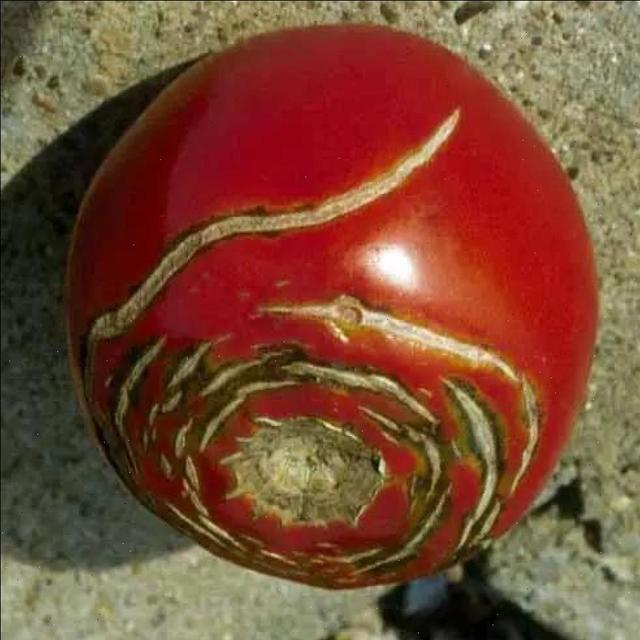Cracking Fruit: (28, 22, 328, 376)
